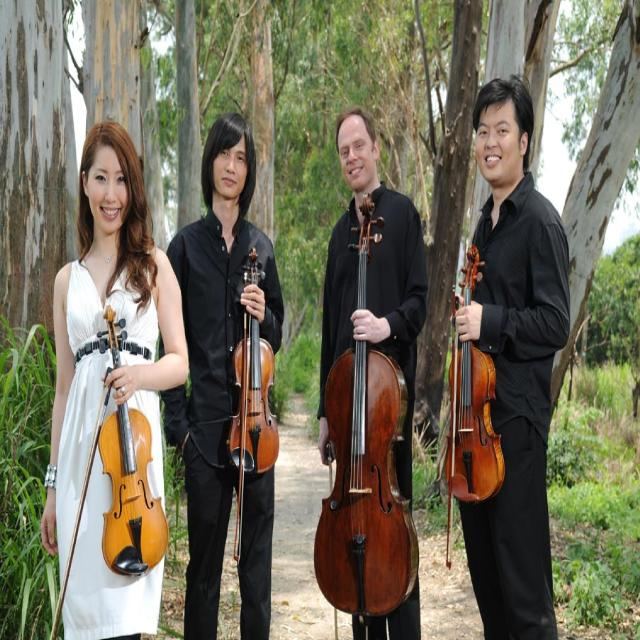cello: (311, 192, 420, 616)
violin: (94, 302, 170, 583), (443, 241, 502, 506), (227, 248, 282, 478)
